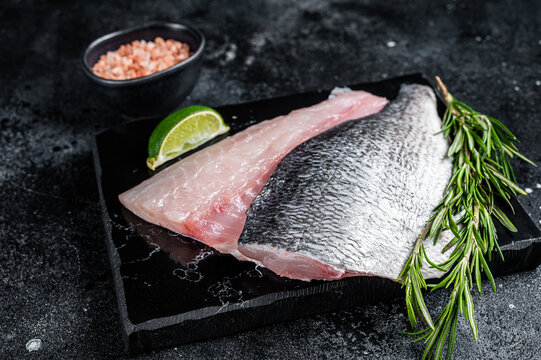bream-fish: (119, 89, 389, 257)
